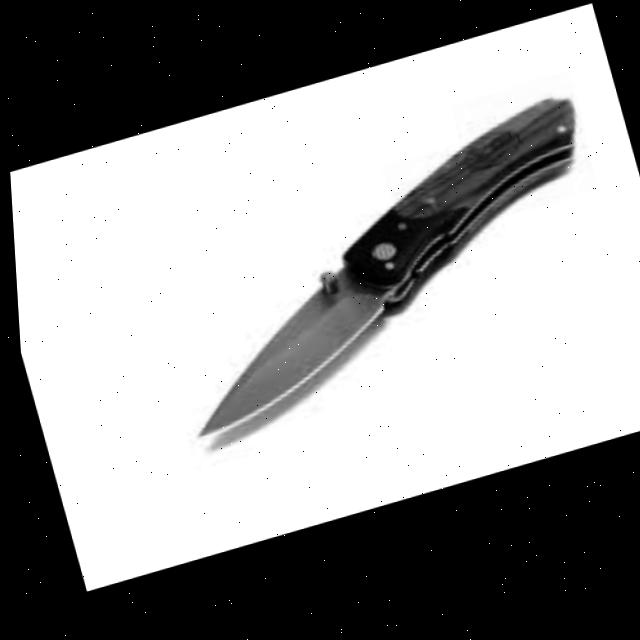knife: (127, 94, 633, 455)
